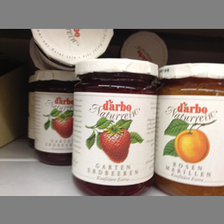jam: (72, 59, 160, 195), (155, 62, 224, 194), (34, 69, 72, 164)
